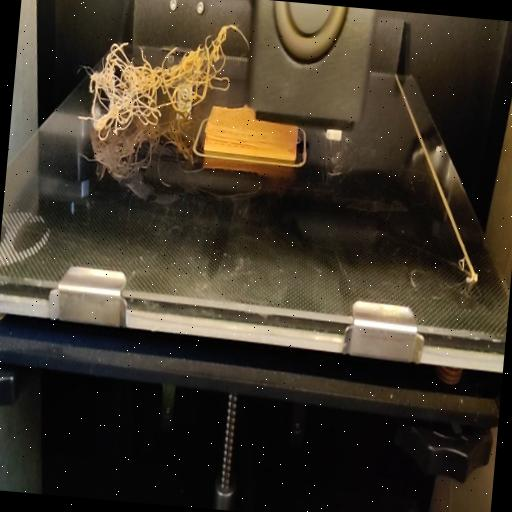spaghetti: (75, 8, 244, 146)
